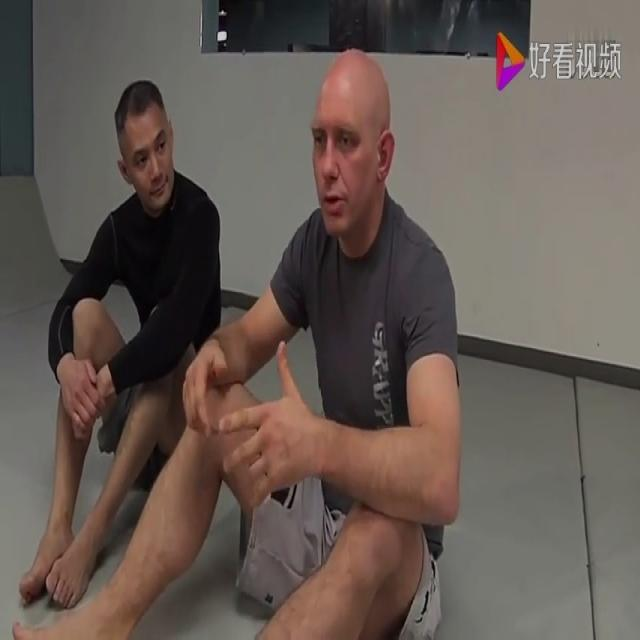non-fight: (21, 41, 472, 639)
